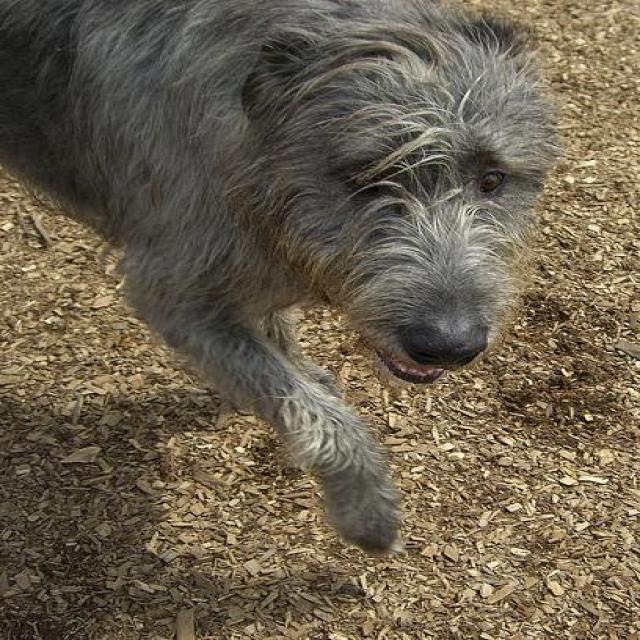irish_wolfhound: (0, 0, 565, 554)
